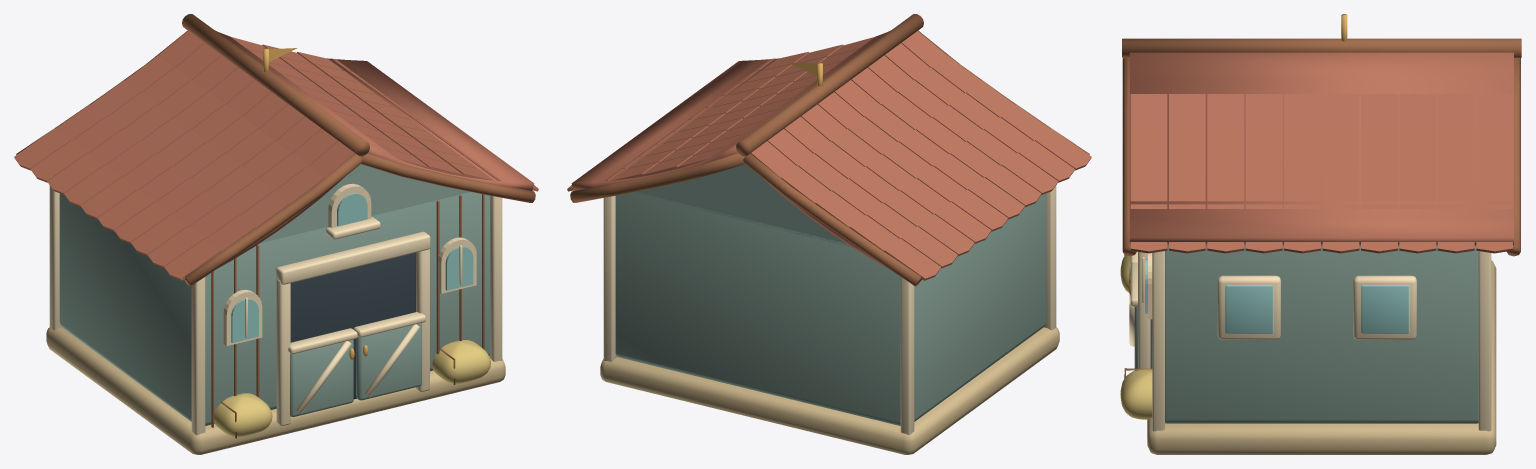
The model's file is farm_corral.glb.
The picture shows the model from 3 angles, left to right: view 1: azimuth 30°, elevation 25°; view 2: azimuth 150°, elevation 25°; view 3: azimuth 270°, elevation 25°; orthographic projection. The views are drawn at different scales.
Parts seen in each view (by area): view 1: farm_corral_crafted_mesh; view 2: farm_corral_crafted_mesh; view 3: farm_corral_crafted_mesh.
Part boxes in pixels (x1,y1,x2,y2): farm_corral_crafted_mesh: (14,14,538,454); farm_corral_crafted_mesh: (567,14,1091,454); farm_corral_crafted_mesh: (1120,14,1521,454).
Size of the model in its own units: 5.32 by 4.33 by 4.43.
